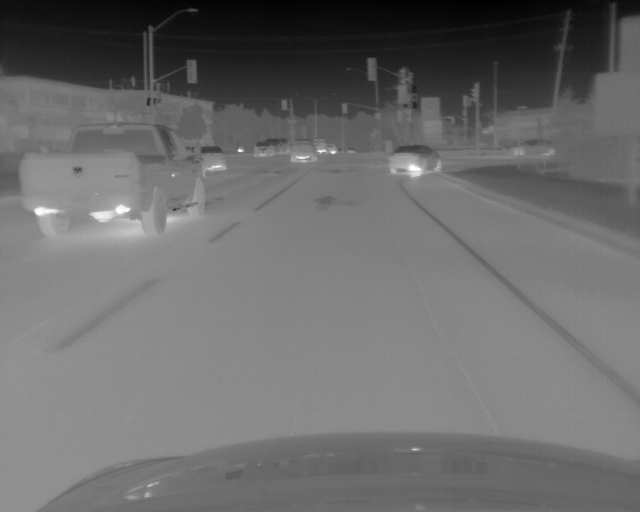car: (14, 123, 207, 238), (387, 146, 441, 179), (507, 139, 556, 156), (204, 145, 227, 172), (290, 140, 316, 162), (253, 141, 272, 157), (266, 138, 281, 155), (315, 138, 327, 154), (279, 138, 288, 155), (328, 142, 338, 155)
